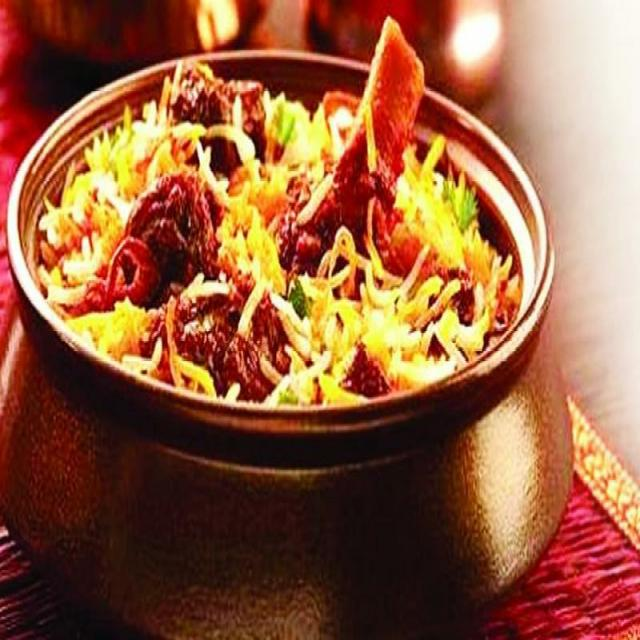Biryani: (34, 57, 524, 403)
